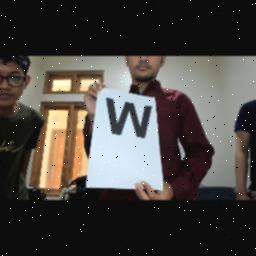w: (100, 96, 156, 146)
